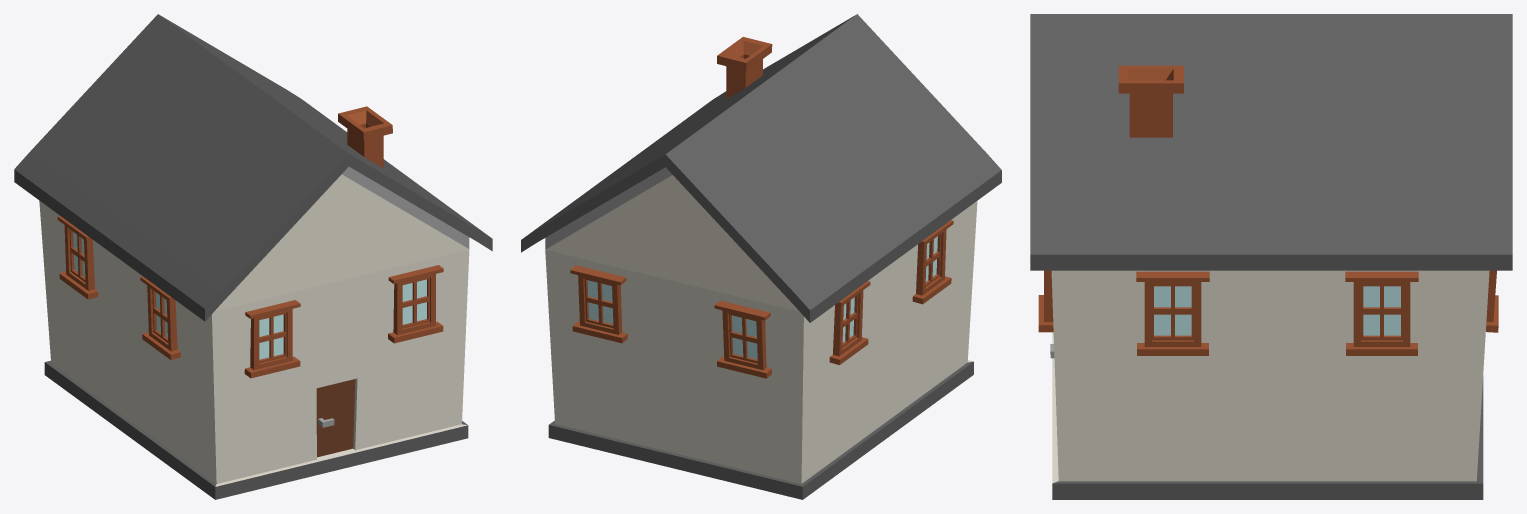
Rendered from q-house2.glb.
The picture shows the model from 3 angles, left to right: view 1: azimuth 30°, elevation 25°; view 2: azimuth 150°, elevation 25°; view 3: azimuth 270°, elevation 25°; orthographic projection. The views are drawn at different scales.
Visible parts, largest first — view 1: House2_Cube.035; view 2: House2_Cube.035; view 3: House2_Cube.035.
Boxes of the visible parts, x1,y1,x2,y2 form: House2_Cube.035: (14, 14, 492, 499); House2_Cube.035: (521, 14, 1001, 499); House2_Cube.035: (1030, 14, 1512, 499).
Size of the model in its own units: 1.25 by 1.34 by 1.44.
1 material, 1 textured.
